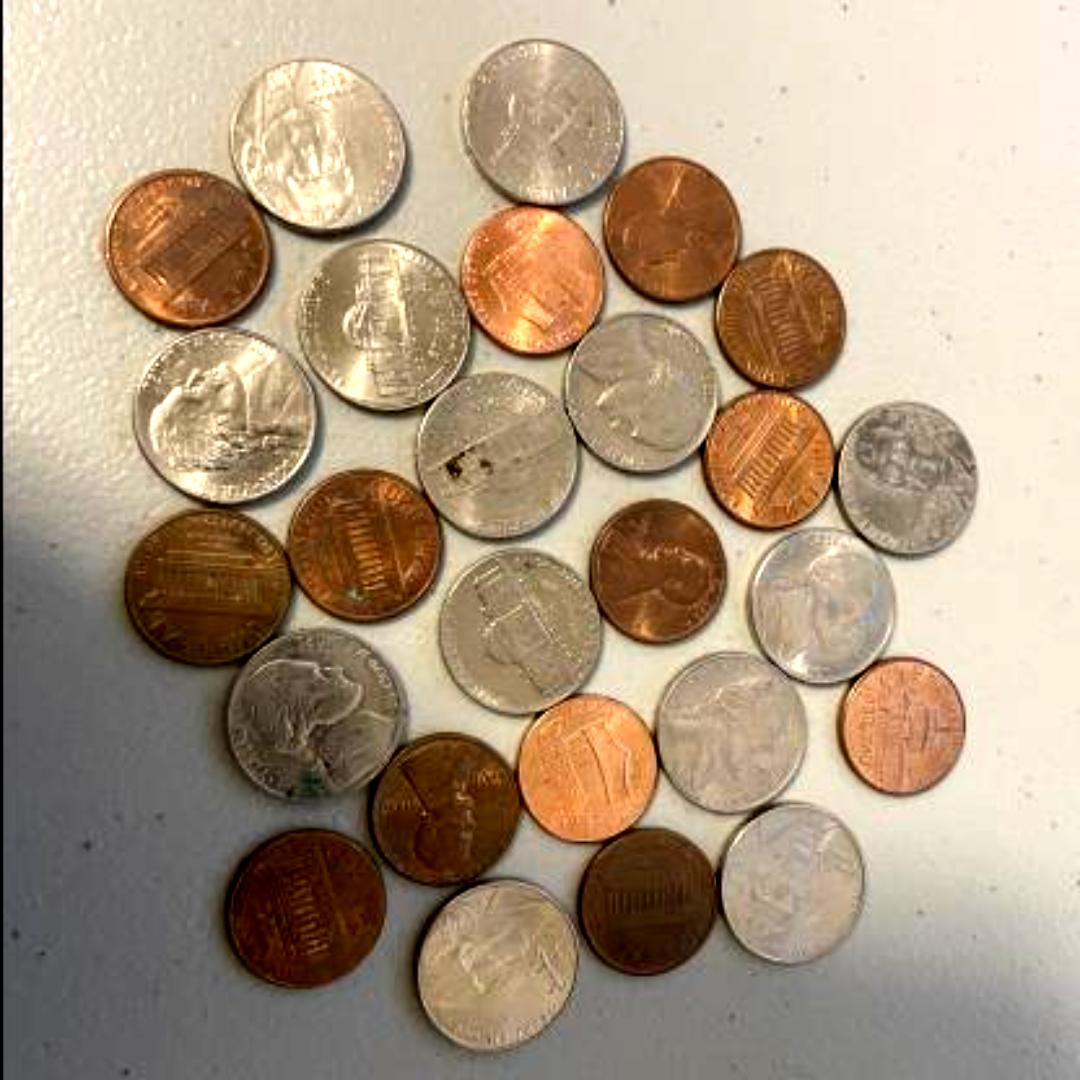Nickel: (216, 629, 412, 805), (135, 330, 321, 506), (232, 57, 410, 233), (413, 876, 584, 1056), (291, 244, 472, 410), (408, 374, 578, 542), (458, 39, 628, 205), (434, 548, 600, 714), (650, 652, 805, 818), (562, 317, 716, 477), (717, 800, 867, 962), (748, 528, 898, 688), (838, 400, 984, 560)
Penny: (101, 171, 272, 337), (224, 834, 384, 992), (127, 514, 293, 664), (364, 727, 518, 887), (294, 470, 447, 626), (595, 159, 745, 309), (573, 826, 718, 981), (461, 210, 608, 356), (585, 499, 727, 649), (519, 693, 659, 843), (709, 244, 849, 394), (696, 392, 836, 534), (836, 658, 970, 802)
